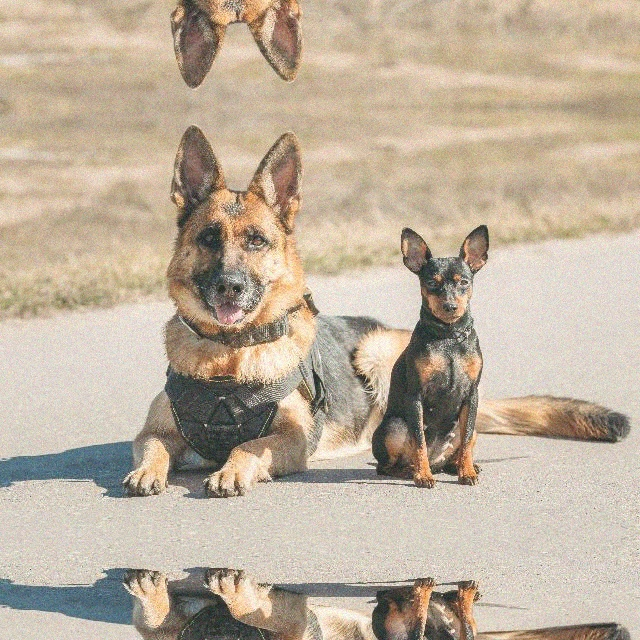dog: (126, 119, 344, 533), (373, 222, 525, 532), (126, 533, 344, 640), (126, 0, 344, 93), (373, 533, 525, 640)
